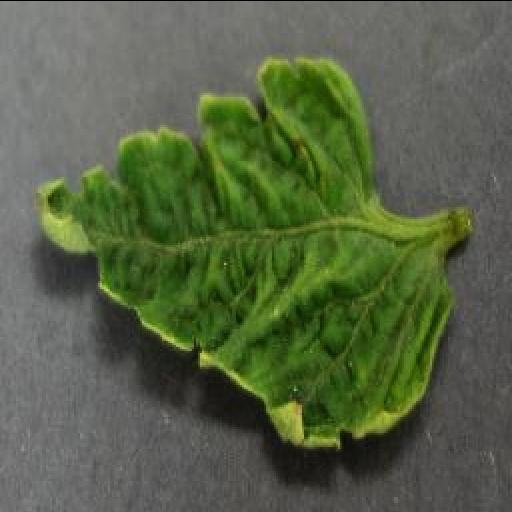disease_tomato: (35, 54, 449, 448)
